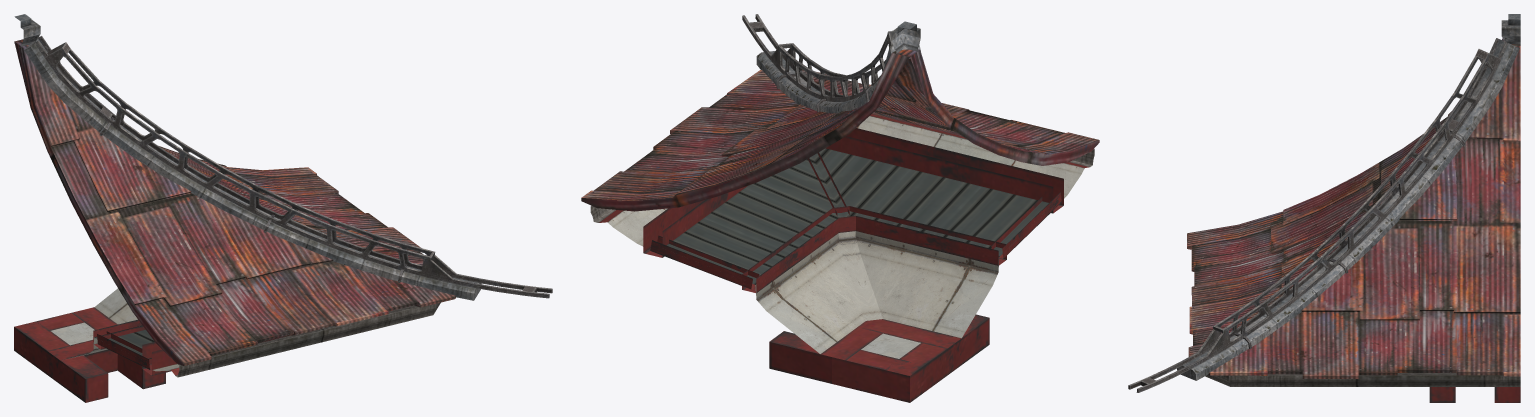
Rendered from Pagoda_Tile_Roof_Corner_2500x2500_A.FBX.
The picture shows the model from 3 angles, left to right: view 1: azimuth 30°, elevation 25°; view 2: azimuth 150°, elevation 25°; view 3: azimuth 270°, elevation 25°; orthographic projection. The views are drawn at different scales.
Parts seen in each view (by area): view 1: Geometry_Pagoda_Tile_Roof_Corner_2500x2500_A_LOD00; view 2: Geometry_Pagoda_Tile_Roof_Corner_2500x2500_A_LOD00; view 3: Geometry_Pagoda_Tile_Roof_Corner_2500x2500_A_LOD00.
Boxes of the visible parts, <box> form: Geometry_Pagoda_Tile_Roof_Corner_2500x2500_A_LOD00: <box>14,14,552,402</box>; Geometry_Pagoda_Tile_Roof_Corner_2500x2500_A_LOD00: <box>581,14,1099,402</box>; Geometry_Pagoda_Tile_Roof_Corner_2500x2500_A_LOD00: <box>1128,14,1520,402</box>.
Size of what is drawn, in the model's own units: 3009 by 2789 by 3018.
3 materials, 3 textured.
